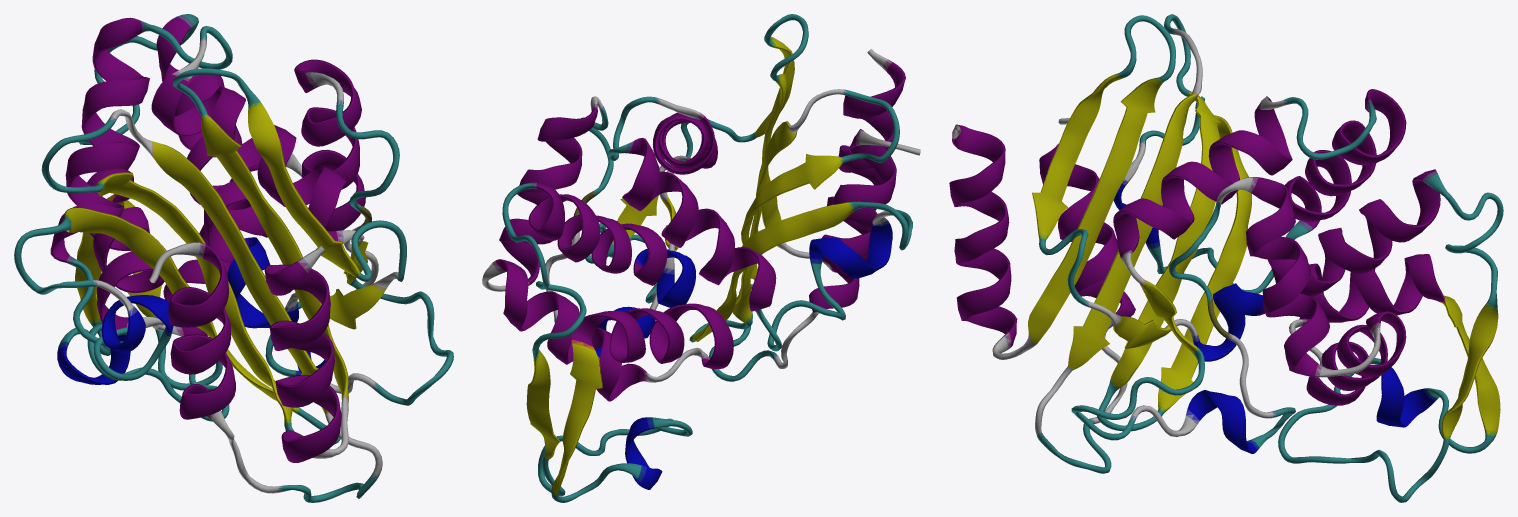
File: animate.0002.obj
3 renders of one model, left to right at view 1: azimuth 30°, elevation 25°; view 2: azimuth 150°, elevation 25°; view 3: azimuth 270°, elevation 25°, orthographic. The views are drawn at different scales.
Visible parts, largest first — view 1: vmd_mol0_rep0; view 2: vmd_mol0_rep0; view 3: vmd_mol0_rep0.
Part boxes in pixels (box(x1,y1,x2,y2)): vmd_mol0_rep0: box(14, 14, 453, 502); vmd_mol0_rep0: box(482, 14, 920, 502); vmd_mol0_rep0: box(949, 14, 1503, 502).
Bounding box in the file's own units: 1.02 × 1.11 × 1.32.
